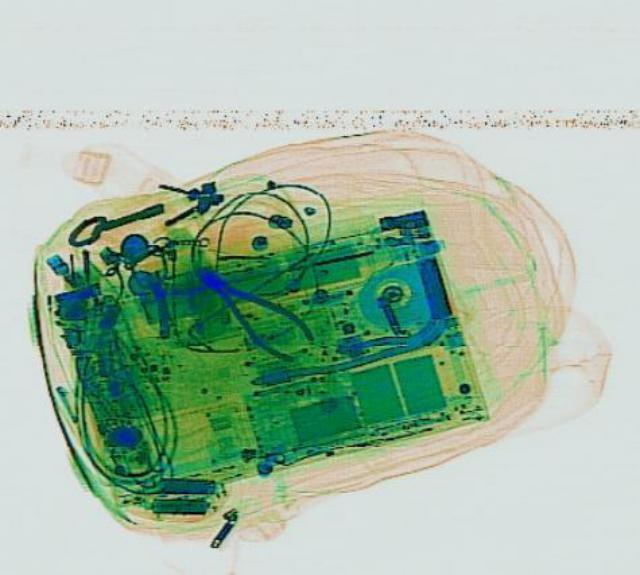Pliers: (178, 250, 320, 365)
